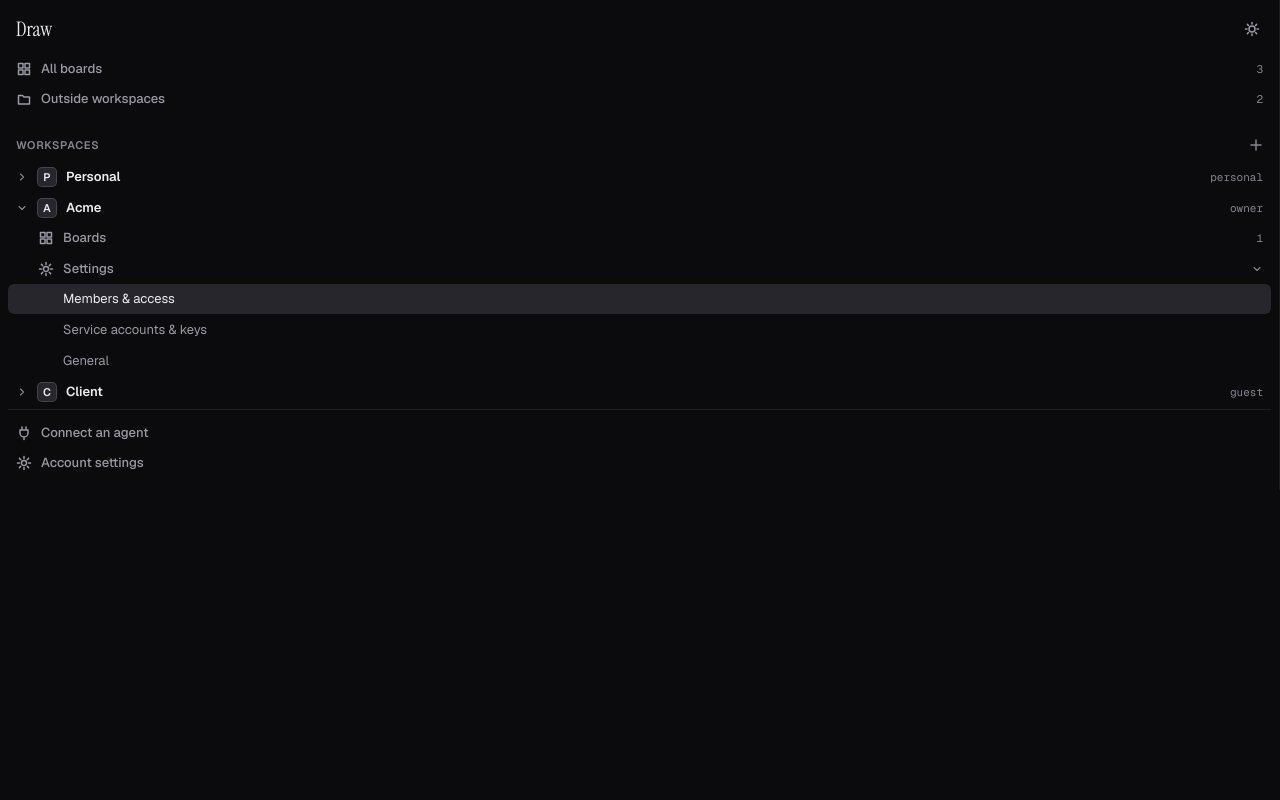
Test: Sidebar › opens the shown workspace with its settings on a settings page, per role
What coordinates should you click on to do the following:
click the button "C Client guest"
I would click on:
 (84, 392)
Its box is x1=8 y1=377 x2=1271 y2=407.
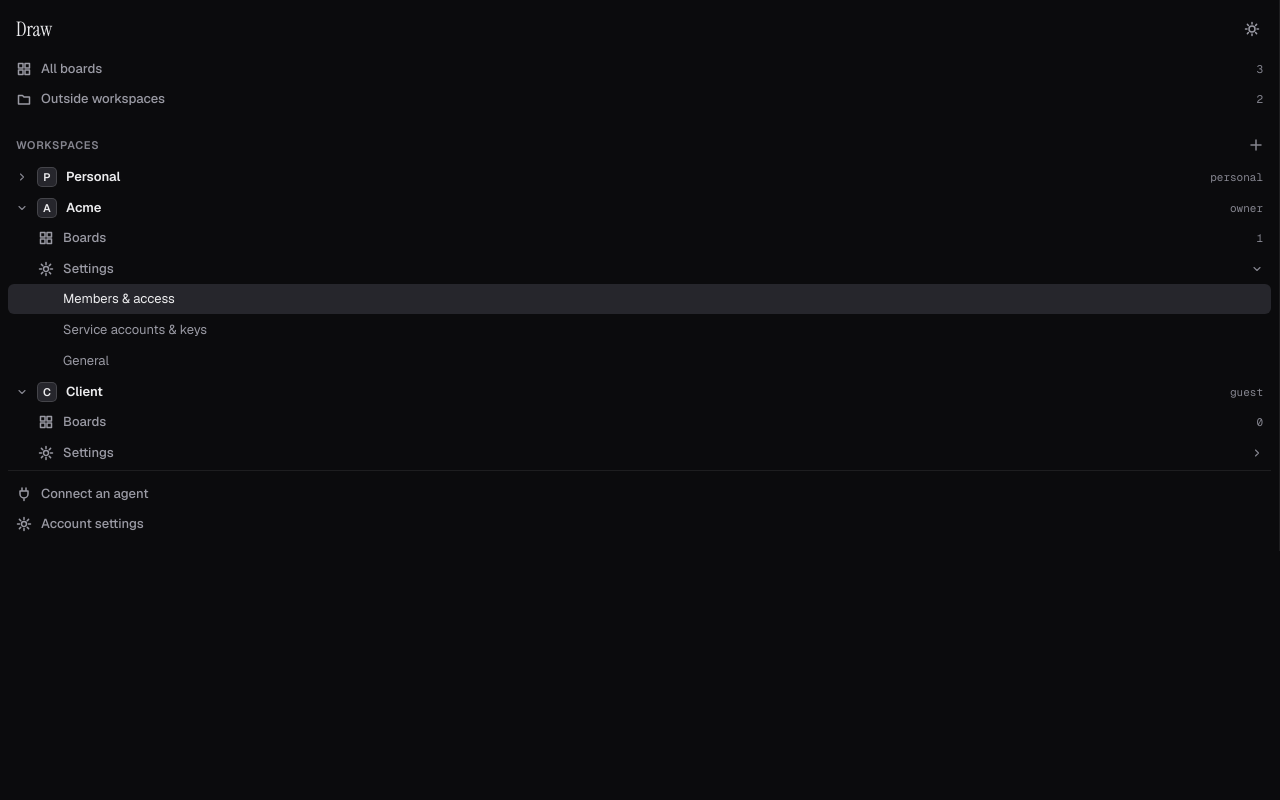
What coordinates should you click on to do the following:
click the 2nd button "Settings"
I would click on:
 (88, 453)
Its box is x1=8 y1=438 x2=1271 y2=468.
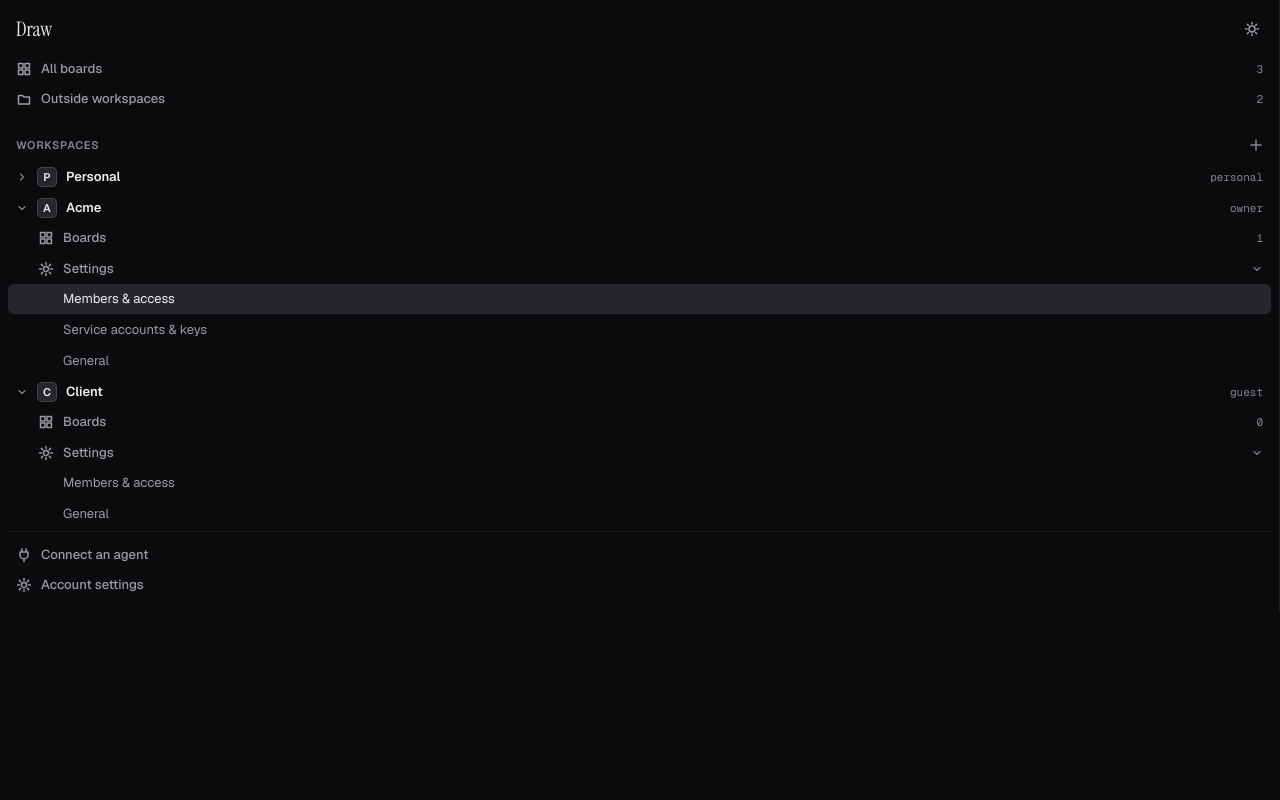
Check: the number of links "Service accounts & keys" is 1, box x1=63 y1=321 x2=207 y2=338
Check: the number of links "Members & access" is 2, box x1=8 y1=284 x2=1271 y2=314; x1=63 y1=474 x2=175 y2=491
